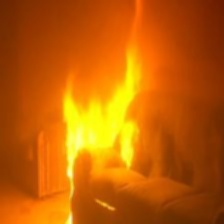fire: (58, 69, 137, 159)
